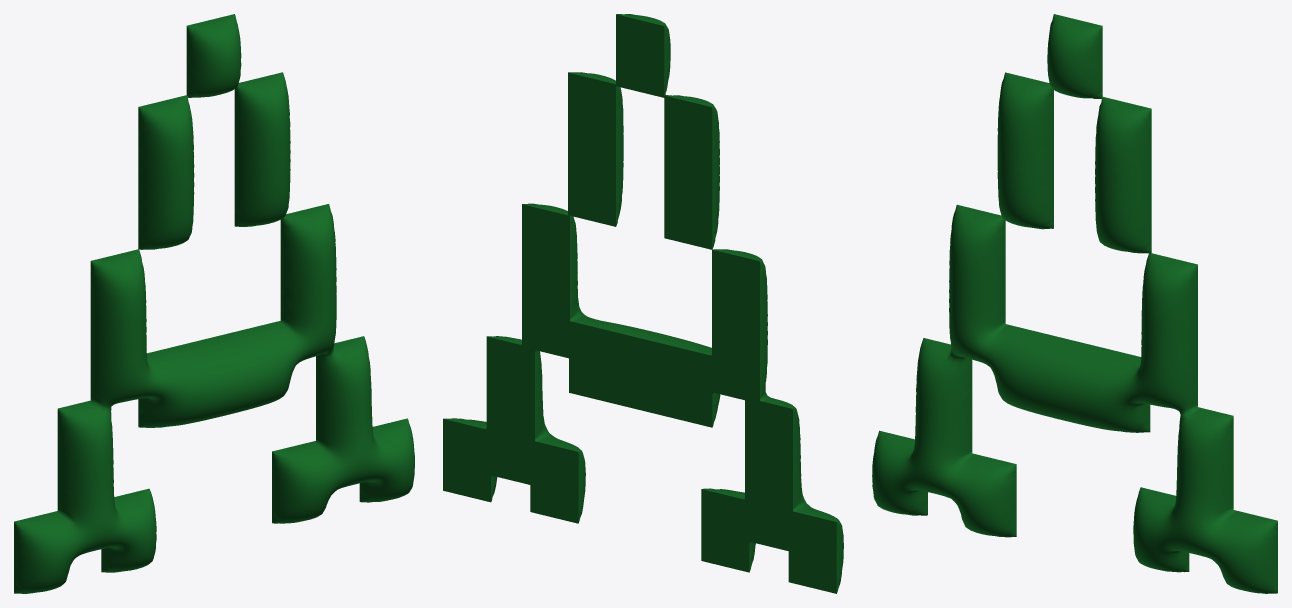
File: aaaa.glb
The picture shows the model from 3 angles, left to right: view 1: azimuth 30°, elevation 25°; view 2: azimuth 150°, elevation 25°; view 3: azimuth 330°, elevation 25°; orthographic projection.
Parts seen in each view (by area): view 1: 자산 11@300; view 2: 자산 11@300; view 3: 자산 11@300.
Boxes of the visible parts, x1,y1,x2,y2 form: 자산 11@300: [14, 14, 414, 593]; 자산 11@300: [443, 14, 843, 593]; 자산 11@300: [872, 14, 1277, 593].
Size of the model in its own units: 77.15 by 98.43 by 9.16.
